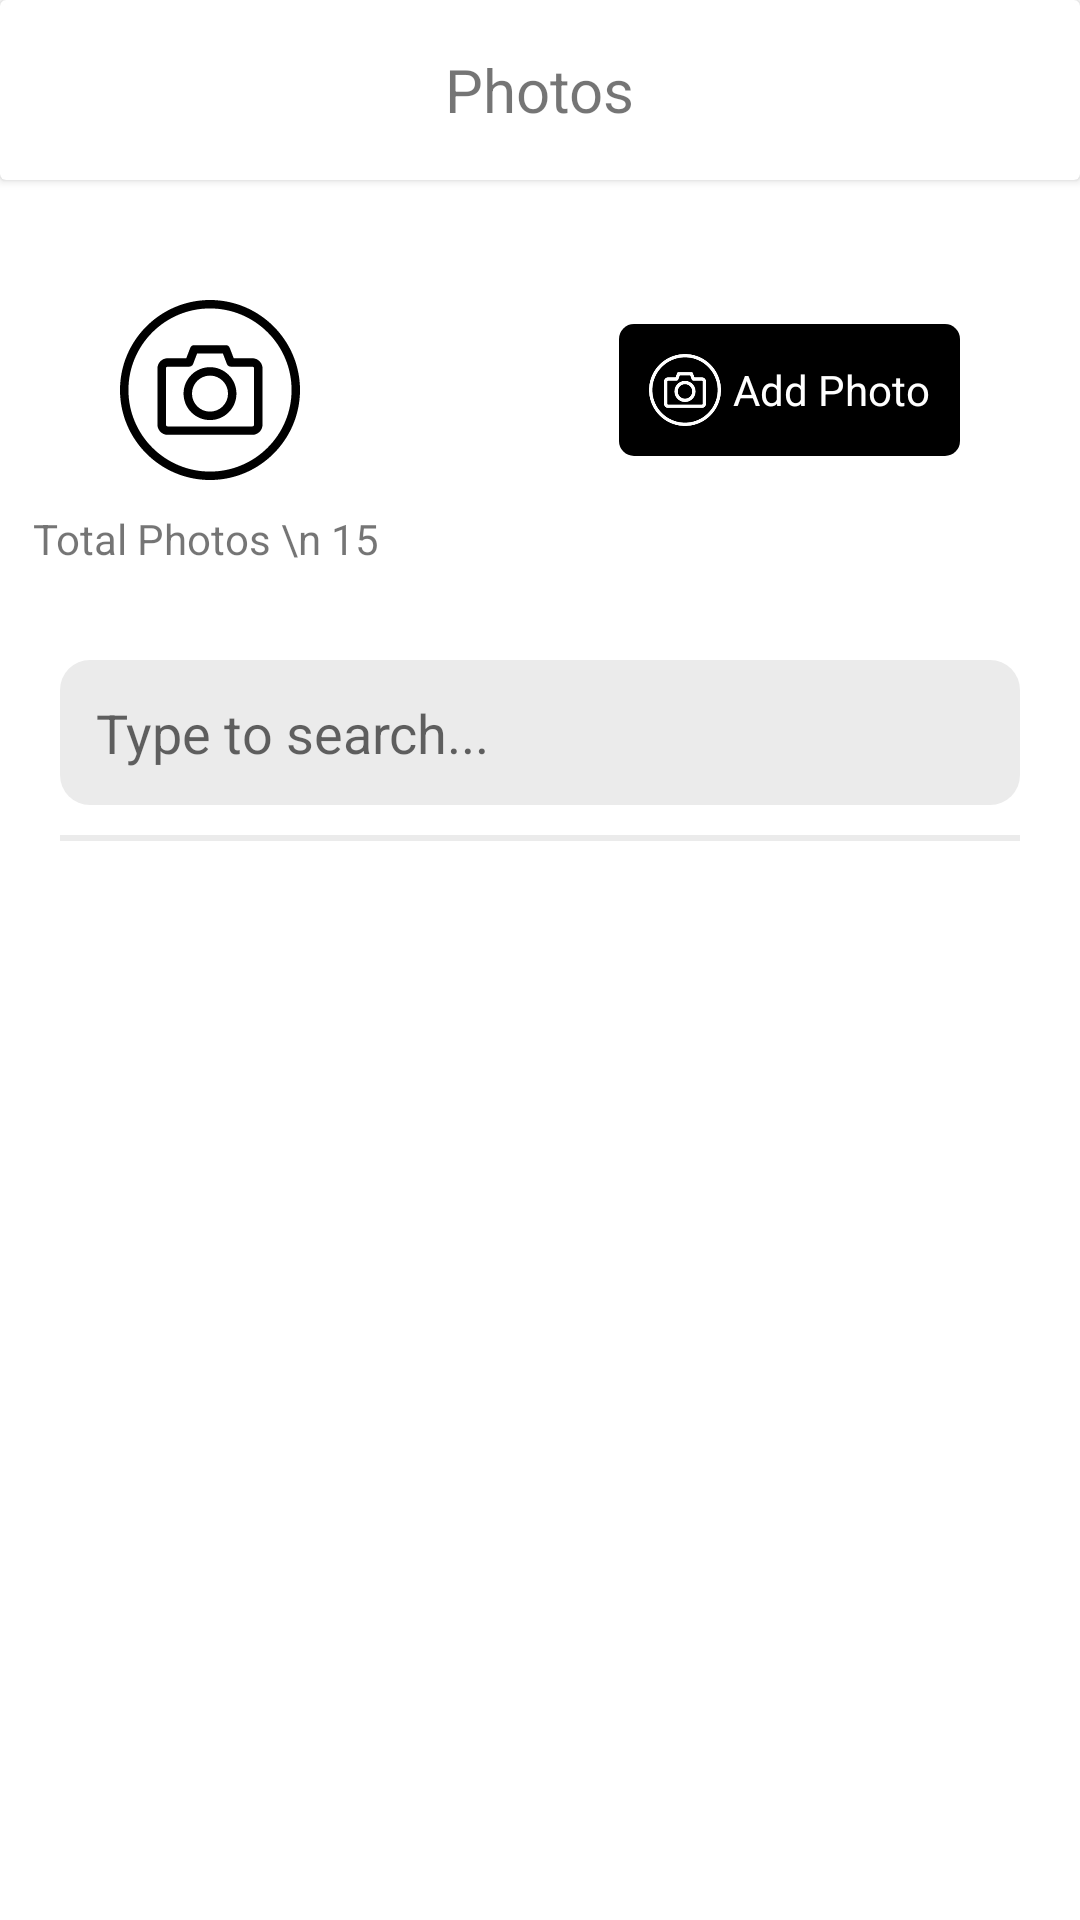

Screen size 1080×1920. Icon name, then its box in pixels as BBox(x1, y1, x2, y2):
camera: BBox(120, 300, 300, 480)
